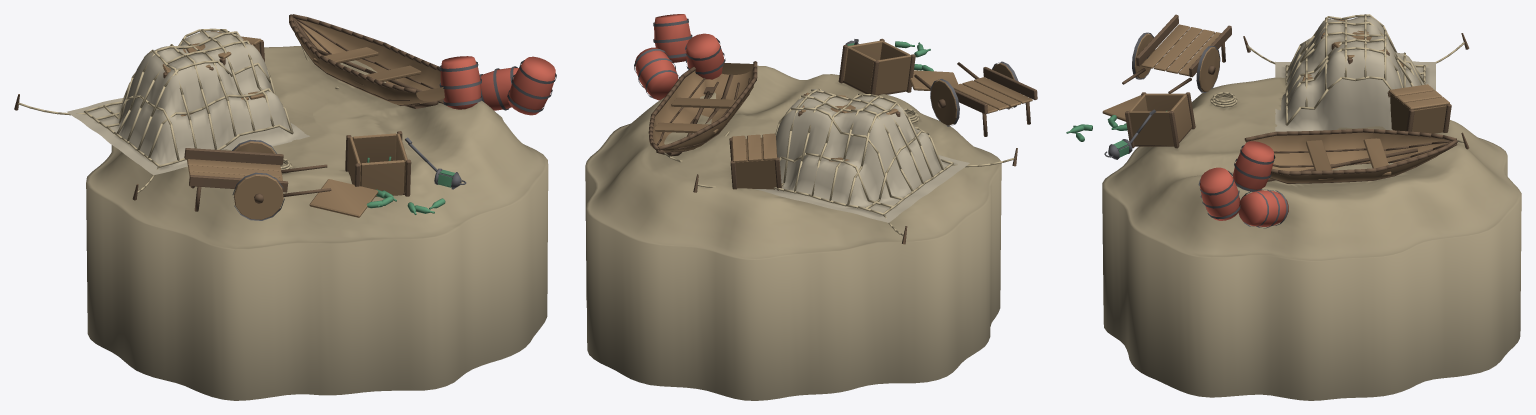
The model's file is smuggler_cache.glb.
The picture shows the model from 3 angles, left to right: view 1: azimuth 30°, elevation 25°; view 2: azimuth 150°, elevation 25°; view 3: azimuth 270°, elevation 25°; orthographic projection. The views are drawn at different scales.
Parts seen in each view (by area): view 1: smuggler_cache; view 2: smuggler_cache; view 3: smuggler_cache.
Part boxes in pixels (bbox=[...]): smuggler_cache: bbox=[14, 14, 556, 400]; smuggler_cache: bbox=[585, 14, 1037, 400]; smuggler_cache: bbox=[1066, 14, 1521, 400].
Bounding box in the file's own units: 6.69 × 4.27 × 7.09.
